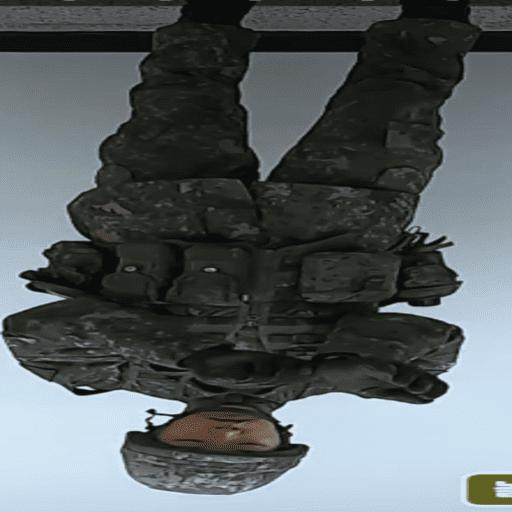korea army: (2, 6, 505, 509)
